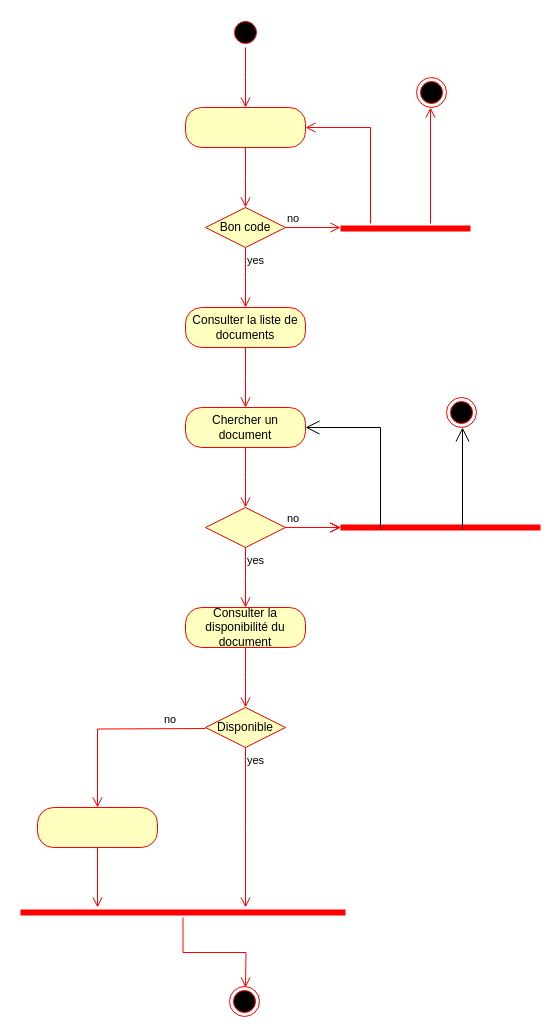
This 560x1034 diagram has some shape labels left out. The centre of each missing label's shape, as x and y in pixels:
"Existance du document" belongs at [245,527].
"Identification" belongs at [245,127].
"Réserver document" belongs at [97,827].
